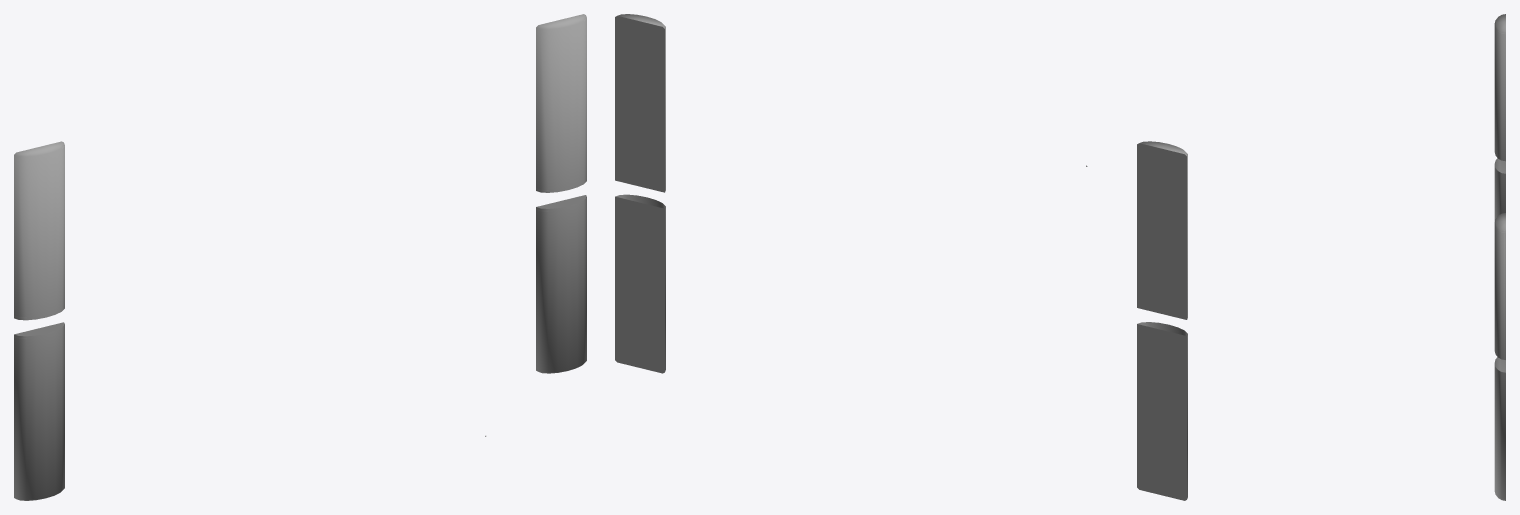
Rendered from MeshTelevisionStand_19_1_GeomSubset_1.obj.
The picture shows the model from 3 angles, left to right: view 1: azimuth 30°, elevation 25°; view 2: azimuth 150°, elevation 25°; view 3: azimuth 270°, elevation 25°; orthographic projection. The views are drawn at different scales.
Visible parts, largest first — view 1: MeshTelevisionStand_19_1_GeomSubset_1; view 2: MeshTelevisionStand_19_1_GeomSubset_1; view 3: MeshTelevisionStand_19_1_GeomSubset_1.
Boxes of the visible parts, <box> form: MeshTelevisionStand_19_1_GeomSubset_1: <box>14,14,586,500</box>; MeshTelevisionStand_19_1_GeomSubset_1: <box>615,14,1187,500</box>; MeshTelevisionStand_19_1_GeomSubset_1: <box>1494,14,1505,500</box>.
Size of the model in its own units: 0.8211 by 0.4756 by 0.4615.
